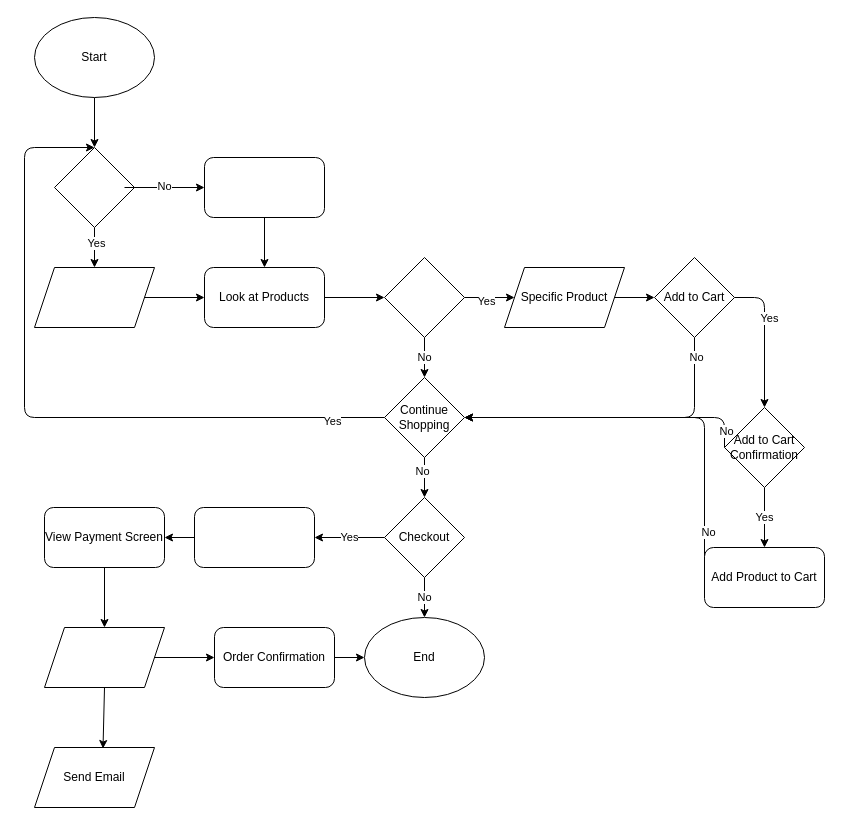
This 842x825 diagram has some shape labels left out. Each missing label, with the centre of its shape:
"Choose Seach option" goes at point 94,187.
"Home Page Explore" goes at point 264,187.
"Look at Specific Product" goes at point 424,297.
"Payment" goes at point 104,657.
"Search for Products" goes at point 94,297.
"View Cart Screen" goes at point 254,537.
